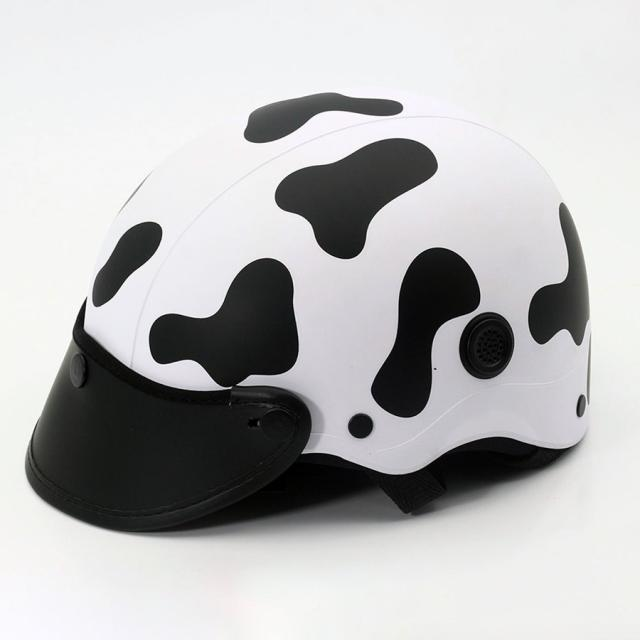Helmet: (24, 83, 598, 533)
